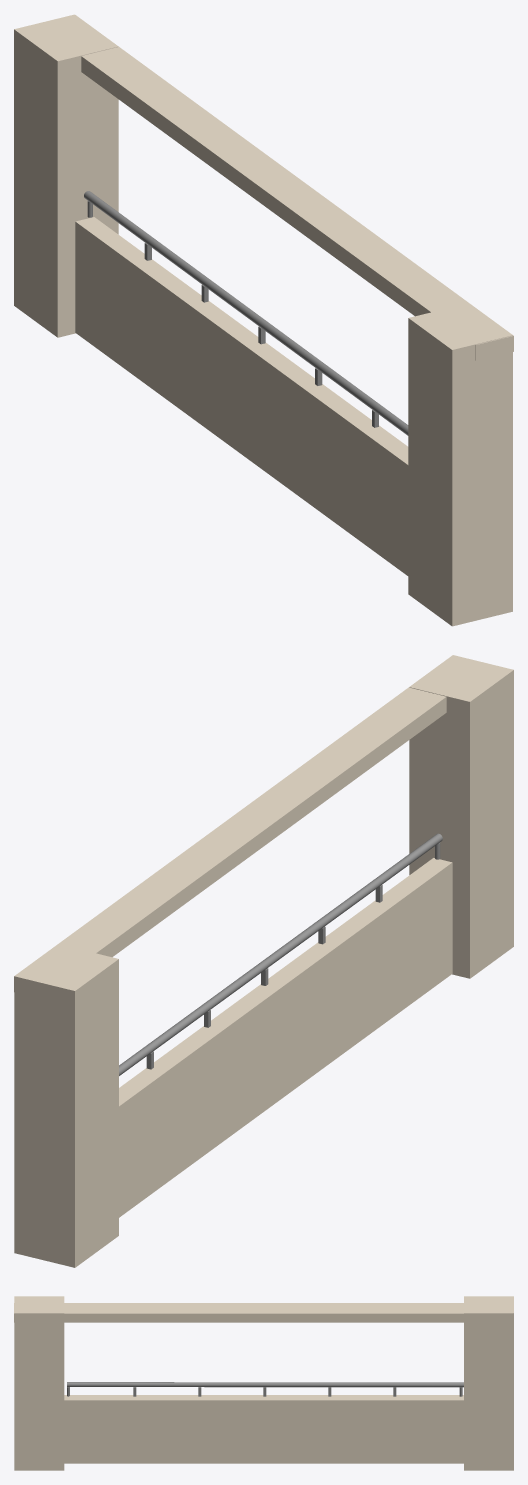
Rendered from 走廊欄杆外牆.fbx.
3 views of the same model, one above another, from view 1: azimuth 30°, elevation 25°; view 2: azimuth 150°, elevation 25°; view 3: azimuth 270°, elevation 25° (orthographic). The views are drawn at different scales.
Visible parts, largest first — view 1: 走廊面外的下牆995.15.140, 走廊面外的柱子01 100.50.348, 走廊面外的柱子02, 走廊面外的上樑柱001, 欄杆; view 2: 走廊面外的下牆995.15.140, 走廊面外的柱子02, 走廊面外的柱子01 100.50.348, 走廊面外的上樑柱001, 欄杆; view 3: 走廊面外的下牆995.15.140, 走廊面外的上樑柱001, 走廊面外的柱子01 100.50.348, 走廊面外的柱子02, 欄杆.
Part boxes in pixels (<box>): 走廊面外的下牆995.15.140: <box>75,217,408,575</box>; 走廊面外的柱子01 100.50.348: <box>408,303,512,626</box>; 走廊面外的柱子02: <box>14,14,118,337</box>; 走廊面外的上樑柱001: <box>76,15,513,360</box>; 欄杆: <box>84,191,408,435</box>; 走廊面外的下牆995.15.140: <box>119,858,452,1217</box>; 走廊面外的柱子02: <box>14,944,118,1267</box>; 走廊面外的柱子01 100.50.348: <box>409,655,513,978</box>; 走廊面外的上樑柱001: <box>14,655,452,991</box>; 欄杆: <box>119,833,442,1075</box>; 走廊面外的下牆995.15.140: <box>64,1395,463,1463</box>; 走廊面外的上樑柱001: <box>14,1303,513,1322</box>; 走廊面外的柱子01 100.50.348: <box>14,1296,64,1470</box>; 走廊面外的柱子02: <box>464,1296,513,1470</box>; 欄杆: <box>67,1382,463,1396</box>.
Bounding box in the file's own units: 31.83 × 137 × 394.
